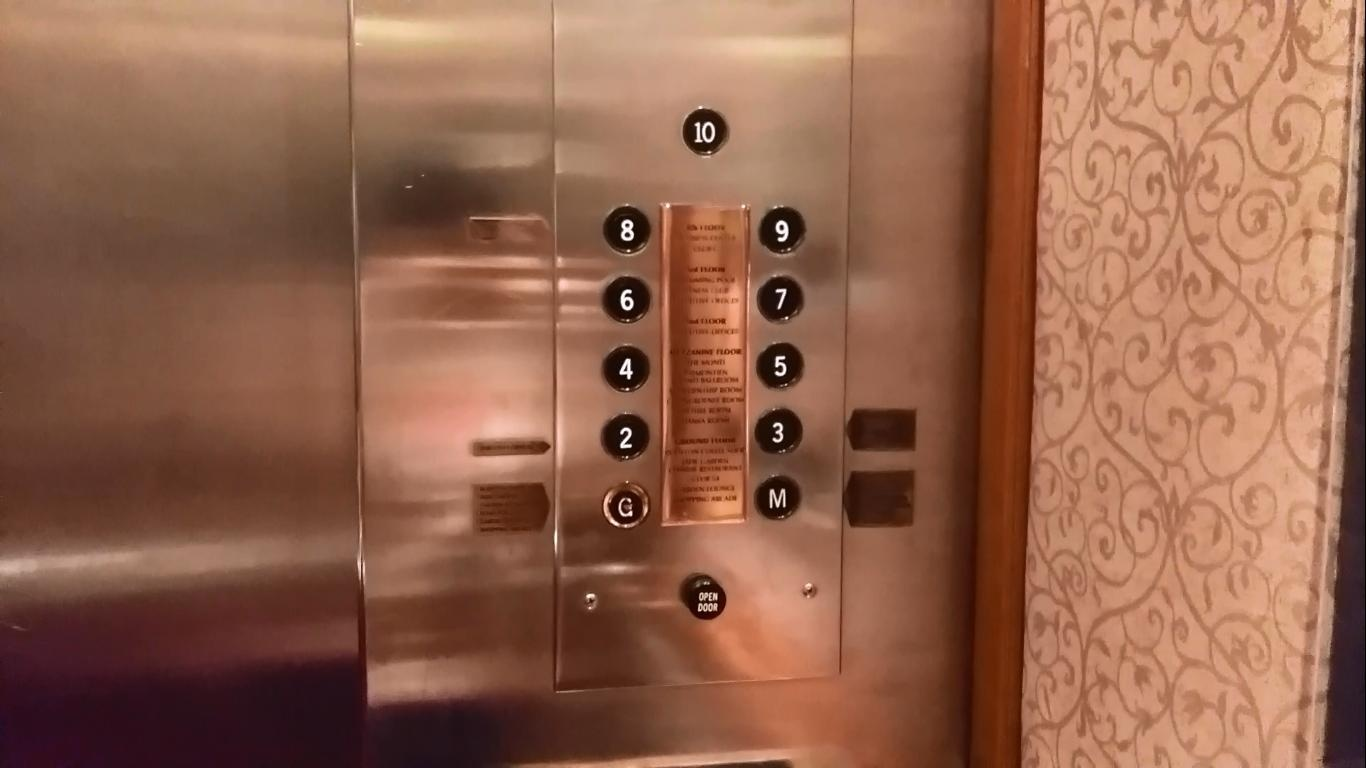10: (679, 103, 731, 158)
2: (598, 408, 654, 465)
3: (752, 401, 806, 457)
4: (597, 342, 653, 396)
5: (752, 338, 808, 390)
6: (600, 273, 654, 326)
7: (753, 270, 809, 326)
8: (598, 203, 653, 257)
9: (757, 204, 808, 256)
G: (598, 478, 654, 531)
M: (750, 472, 805, 522)
text_open: (677, 572, 726, 620)
